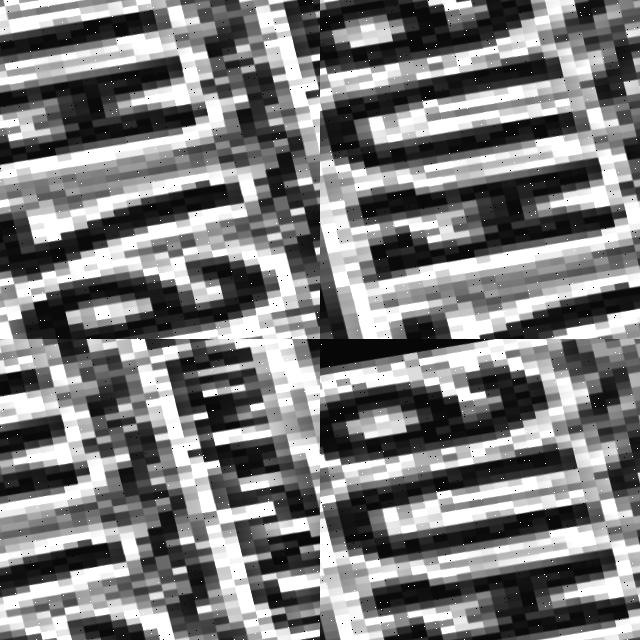license-plate: (320, 0, 640, 339), (320, 339, 640, 640)
